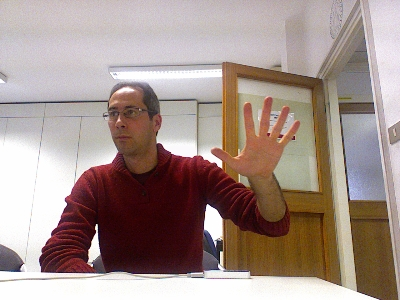布: (209, 95, 301, 177)
